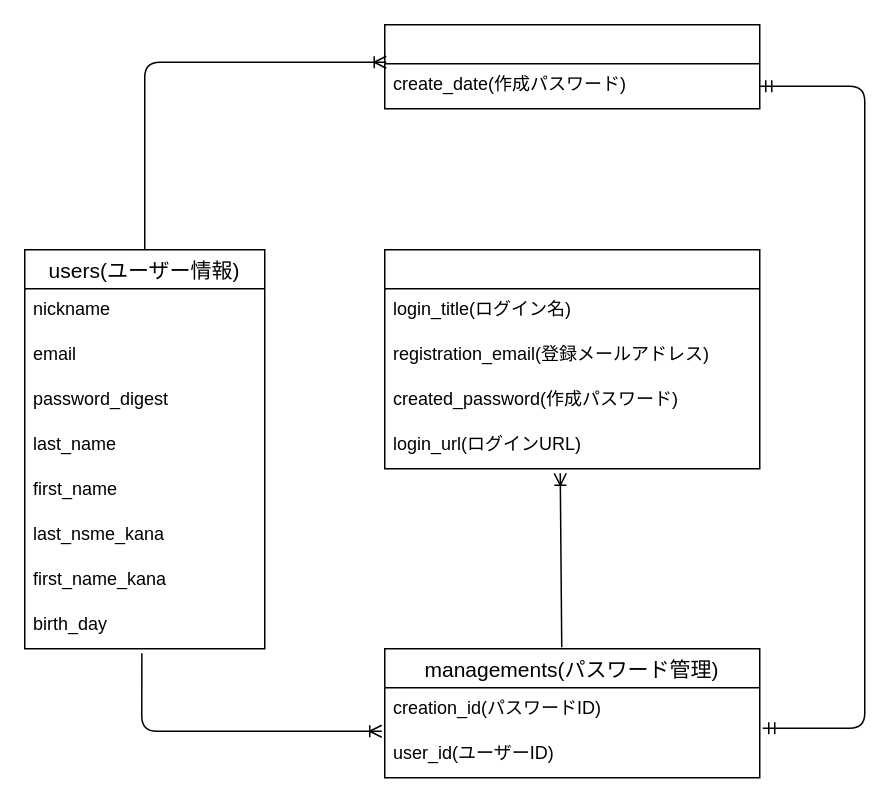
The diagram is 890 pixels wide and 803 high, and some of its shapes have lost their labels. The box of each missing label's shape, as (x1, y1, x2, y2) in pixels:
creations(パスワード作成): (383, 23, 760, 109)
passwords(パスワード情報): (383, 248, 760, 469)
